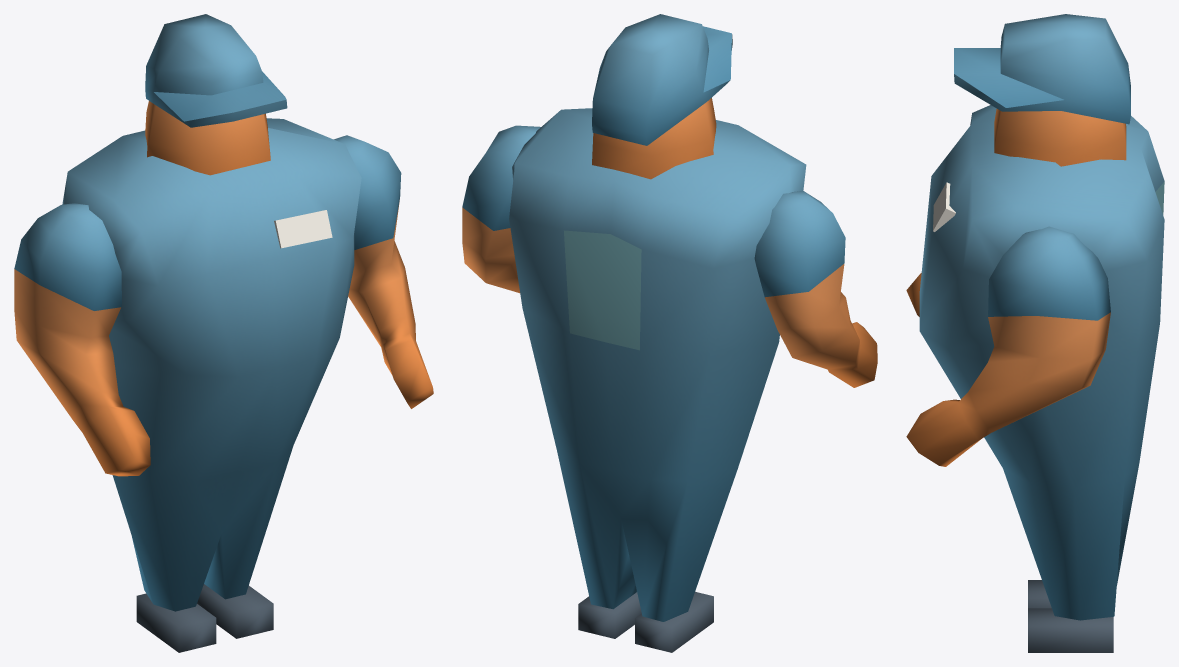
File: Char_Mover.fbx
3 renders of one model, left to right at view 1: azimuth 30°, elevation 25°; view 2: azimuth 150°, elevation 25°; view 3: azimuth 270°, elevation 25°, orthographic.
Parts seen in each view (by area): view 1: Mover_Body, Mover_RArm, Mover_Head, Mover_LArm, Mover_RFoot, Mover_LFoot; view 2: Mover_Body, Mover_Head, Mover_RArm, Mover_LArm, Mover_RFoot, Mover_LFoot; view 3: Mover_Body, Mover_LArm, Mover_Head, Mover_LFoot, Mover_RFoot.
Part boxes in pixels (bbox=[...]): Mover_Body: bbox=[62, 118, 361, 611]; Mover_RArm: bbox=[14, 203, 150, 476]; Mover_Head: bbox=[145, 14, 287, 175]; Mover_LArm: bbox=[334, 135, 433, 408]; Mover_RFoot: bbox=[136, 593, 216, 652]; Mover_LFoot: bbox=[197, 584, 273, 638]; Mover_Body: bbox=[509, 108, 806, 621]; Mover_Head: bbox=[592, 14, 732, 179]; Mover_RArm: bbox=[754, 190, 877, 387]; Mover_LArm: bbox=[462, 125, 540, 293]; Mover_RFoot: bbox=[635, 591, 713, 652]; Mover_LFoot: bbox=[578, 592, 641, 638]; Mover_Body: bbox=[919, 105, 1164, 620]; Mover_LArm: bbox=[906, 226, 1110, 466]; Mover_Head: bbox=[954, 14, 1130, 166]; Mover_LFoot: bbox=[1028, 608, 1113, 652]; Mover_RFoot: bbox=[1028, 580, 1051, 608].
Bounding box in the file's own units: 128 × 203 × 78.32.
